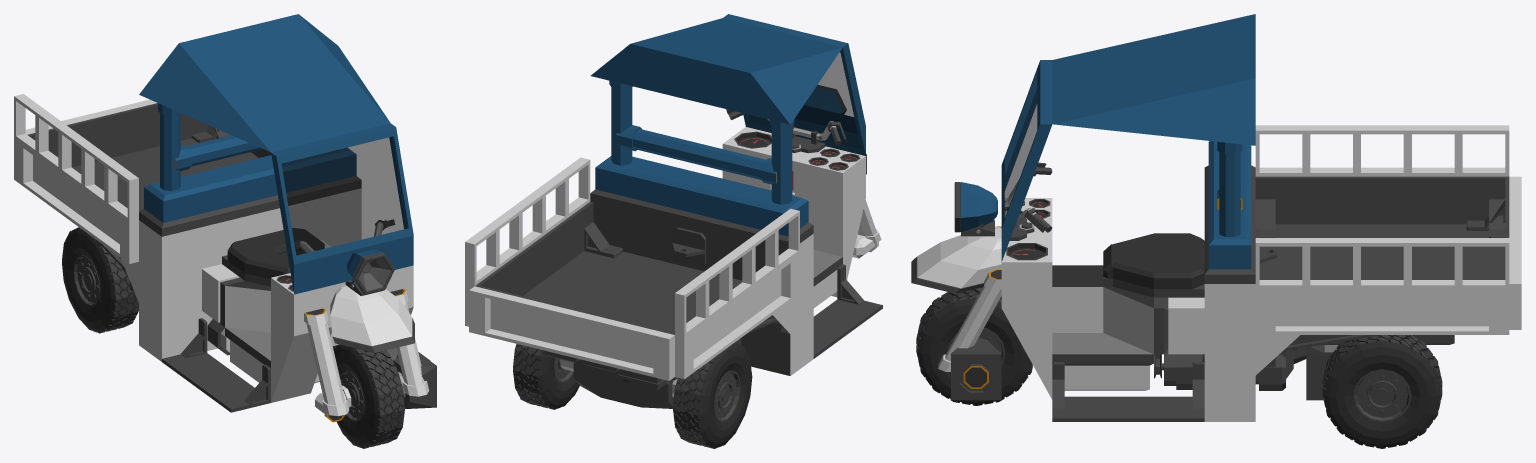
Rendered from keke-7.glb.
3 views of the same model, side by side, from view 1: azimuth 30°, elevation 25°; view 2: azimuth 150°, elevation 25°; view 3: azimuth 270°, elevation 25° (orthographic). The views are drawn at different scales.
Parts seen in each view (by area): view 1: Tuk Tuk Bed Body_3, Front Wheel_0, Rear Right Wheel_2; view 2: Tuk Tuk Bed Body_3, Rear Right Wheel_2, Rear Left Wheel_1; view 3: Tuk Tuk Bed Body_3, Rear Left Wheel_1, Front Wheel_0.
Part boxes in pixels (x1=…): Tuk Tuk Bed Body_3: x1=14, y1=14, x2=436, y2=422; Front Wheel_0: x1=333, y1=344, x2=404, y2=448; Rear Right Wheel_2: x1=62, y1=227, x2=138, y2=333; Tuk Tuk Bed Body_3: x1=465, y1=14, x2=882, y2=408; Rear Right Wheel_2: x1=673, y1=342, x2=752, y2=448; Rear Left Wheel_1: x1=513, y1=344, x2=579, y2=409; Tuk Tuk Bed Body_3: x1=911, y1=14, x2=1521, y2=421; Rear Left Wheel_1: x1=1322, y1=335, x2=1442, y2=448; Front Wheel_0: x1=916, y1=287, x2=1032, y2=405.
Bounding box in the file's own units: 1.37 × 1.92 × 3.
